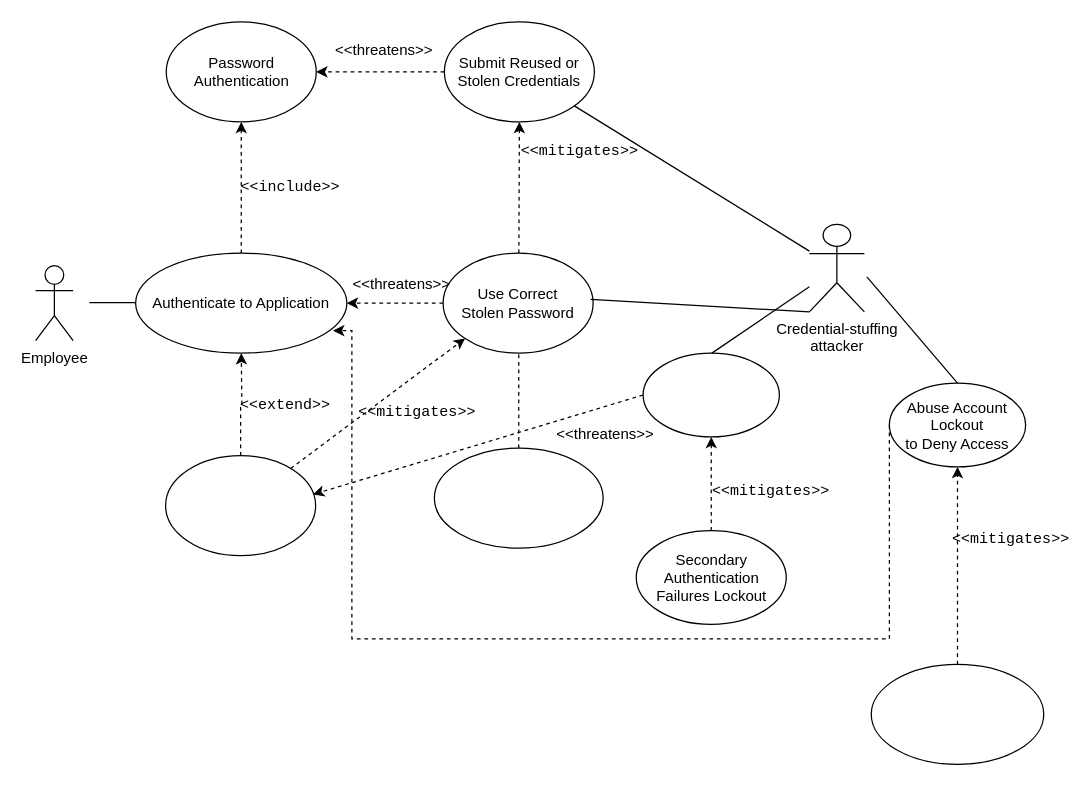
This 1091x786 diagram has some shape labels left out. Each missing label, with the centre of its shape:
Brute-Force Protection: the point at 518,497
Login Failure Monitoring and IP Blocking: the point at 957,713
OTP Authentication: the point at 240,505
Repeatedly Guess OTP: the point at 710,394
